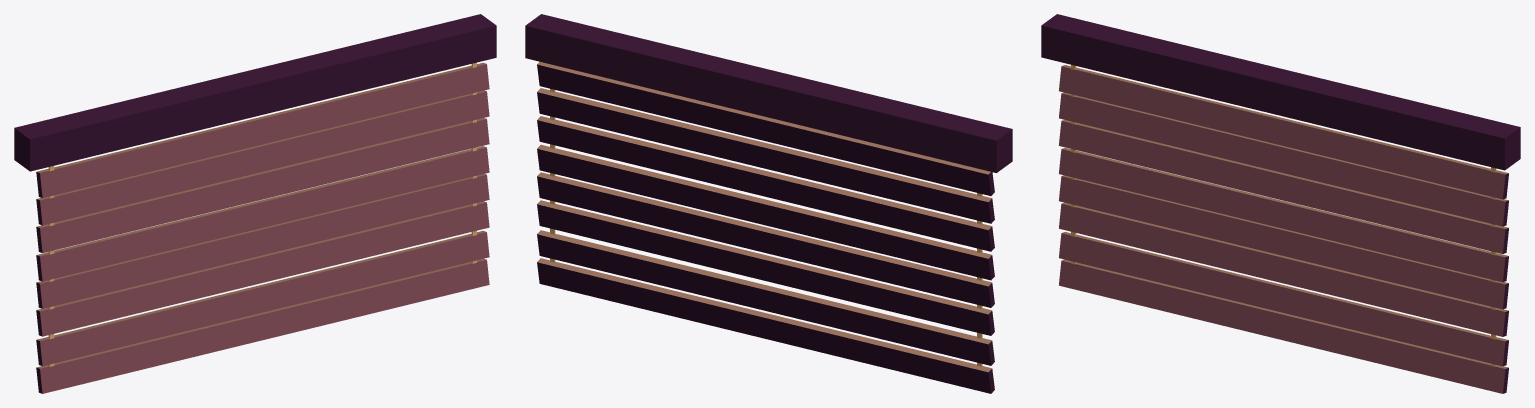
Rendered from Interior_Blinds_Set.fbx.
3 views of the same model, side by side, from view 1: azimuth 30°, elevation 25°; view 2: azimuth 150°, elevation 25°; view 3: azimuth 330°, elevation 25° (orthographic).
Visible parts, largest first — view 1: Cube.366, Cube.361; view 2: Cube.366, Cube.361; view 3: Cube.366, Cube.361.
Part boxes in pixels (x1,y1,x2,y2): Cube.366: (36,62,489,393); Cube.361: (14,14,496,171); Cube.366: (537,61,994,393); Cube.361: (525,14,1012,172); Cube.366: (1058,64,1508,393); Cube.361: (1041,14,1520,170).
Size of the model in its own units: 168 by 89.67 by 9.89.
